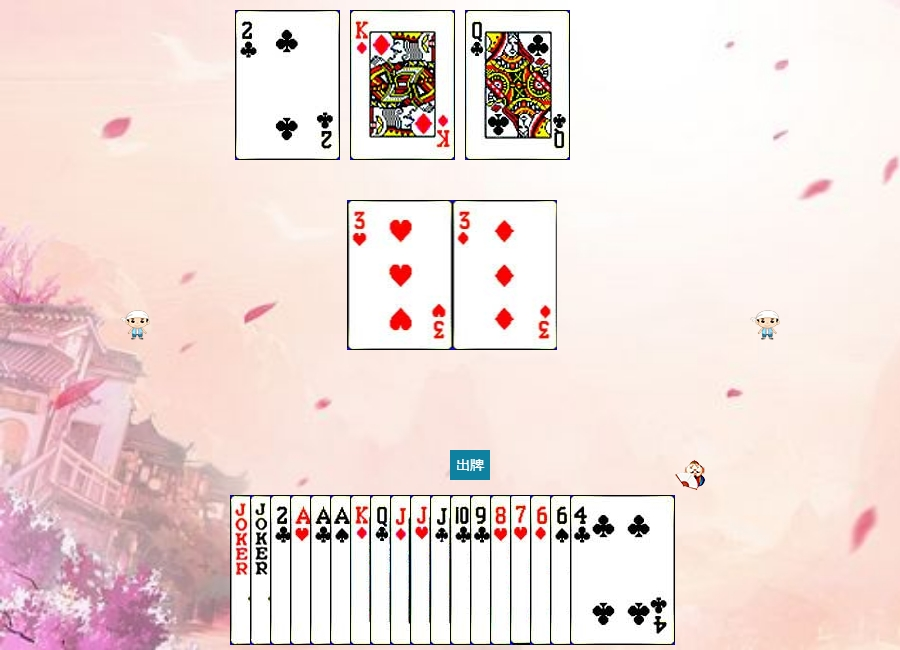10~2: (450, 495, 555, 645)
11~1: (390, 495, 495, 645)
11~2: (430, 495, 535, 645)
11~3: (410, 495, 515, 645)
12~2: (465, 10, 570, 160), (370, 495, 475, 645)
13~1: (350, 10, 455, 160), (350, 495, 455, 645)
14~2: (310, 495, 415, 645)
14~3: (290, 495, 395, 645)
14~4: (330, 495, 435, 645)
15~2: (235, 10, 340, 160), (270, 495, 375, 645)
17~3: (250, 495, 355, 645)
18~4: (230, 495, 335, 645)
3~1: (453, 200, 558, 350)
3~3: (348, 200, 453, 350)
4~2: (570, 495, 675, 645)
6~1: (530, 495, 635, 645)
6~4: (550, 495, 655, 645)
7~3: (510, 495, 615, 645)
8~3: (490, 495, 595, 645)
9~2: (470, 495, 575, 645)
